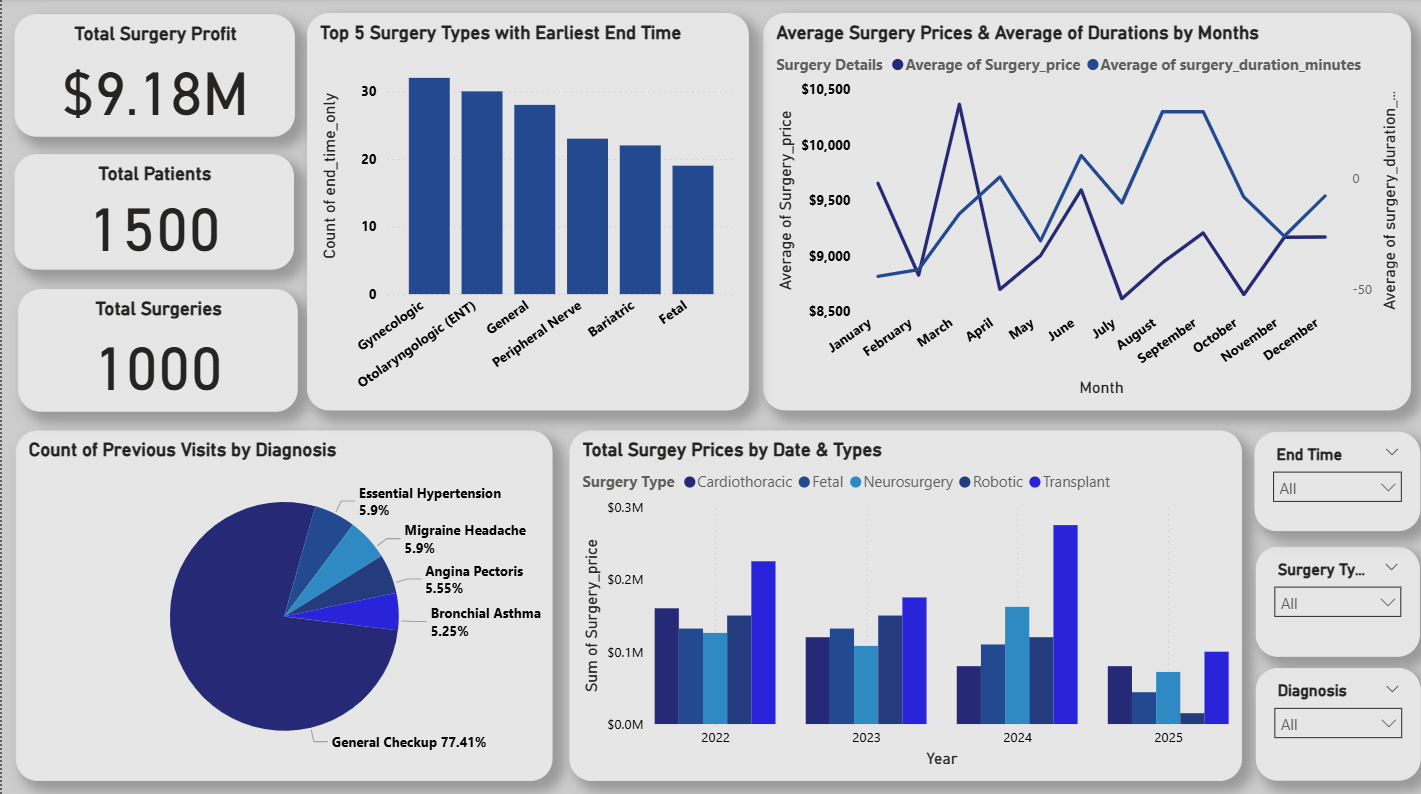

The page's visual inventory and layout, read from the dashboard file:
{"tool":"powerbi","page":{"name":"3","canvas":[1280,720],"ordinal":2},"visuals":[{"type":"card","title":"Total Surgery Profit","fields":{"Values":["Sum(SurgeryRecords.Surgery_price)"]},"box":[11.6,14.1,253.1,110.5],"z":0},{"type":"card","title":"Total Patients","fields":{"Values":["CountNonNull(Patients.patient_Id)"]},"box":[11.6,141.3,251.8,104.1],"z":1000},{"type":"pieChart","title":"Count of Previous Visits  by Diagnosis","fields":{"Y":["CountNonNull(MedicalRecords.previousvisits_count)"],"Category":["MedicalRecords.diagnosis"]},"box":[12.8,390.5,484.3,316],"z":2000},{"type":"card","title":"Total Surgeries","fields":{"Values":["CountNonNull(SurgeryRecords.surgery_Id)"]},"box":[14.1,262.1,251.8,110.5],"z":3000},{"type":"lineChart","title":"Average Surgery Prices & Average of Durations by Months","fields":{"Y":["Avg(SurgeryRecords.Surgery_price)"],"Y2":["Avg(SurgeryRecords.surgery_duration_minutes)"],"Category":["SurgeryRecords.surgery_Date.Variation.Date Hierarchy.Month"]},"box":[686.1,13.9,584.1,358.5],"z":4000},{"type":"clusteredColumnChart","title":"Total Surgey Prices by Date & Types","fields":{"Y":["Sum(SurgeryRecords.Surgery_price)"],"Series":["SurgeryRecords.surgery_Type"],"Category":["SurgeryRecords.surgery_Date.Variation.Date Hierarchy.Year"]},"box":[511.3,390.5,606.3,316],"z":5000},{"type":"columnChart","title":" Top 5 Surgery Types with Earliest End Time","fields":{"Category":["SurgeryRecords.surgery_Type"],"Y":["CountNonNull(SurgeryRecords.end_time_only)"]},"box":[275,13.9,398.7,358.5],"z":6000},{"type":"slicer","fields":{"Values":["SurgeryRecords.surgery_Type"]},"box":[1131.1,494.5,148.3,98.9],"z":7000},{"type":"slicer","fields":{"Values":["MedicalRecords.diagnosis"]},"box":[1130.5,603.8,149,101.5],"z":8000},{"type":"slicer","fields":{"Values":["SurgeryRecords.end_time_only"]},"box":[1129.5,390.9,149.9,89.6],"z":9000}]}

Visuals, with their boxes in screenshot pixels (x1, y1, x2, y2), scaled from the page's 1280x720 canvas onto the 1421x794 screenshot:
"Total Surgery Profit" card: (left=13, top=16, right=294, bottom=137)
"Total Patients" card: (left=13, top=156, right=292, bottom=271)
"Count of Previous Visits  by Diagnosis" pieChart: (left=14, top=431, right=552, bottom=779)
"Total Surgeries" card: (left=16, top=289, right=295, bottom=411)
"Average Surgery Prices & Average of Durations by Months" lineChart: (left=762, top=15, right=1410, bottom=411)
"Total Surgey Prices by Date & Types" clusteredColumnChart: (left=568, top=431, right=1241, bottom=779)
" Top 5 Surgery Types with Earliest End Time" columnChart: (left=305, top=15, right=748, bottom=411)
slicer - SurgeryRecords.surgery_Type: (left=1256, top=545, right=1420, bottom=654)
slicer - MedicalRecords.diagnosis: (left=1255, top=666, right=1420, bottom=778)
slicer - SurgeryRecords.end_time_only: (left=1254, top=431, right=1420, bottom=530)
